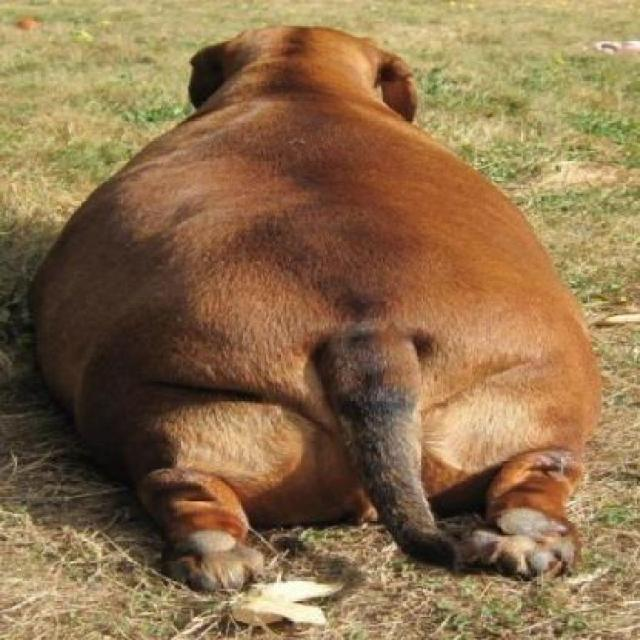Dog: (28, 26, 598, 597)
